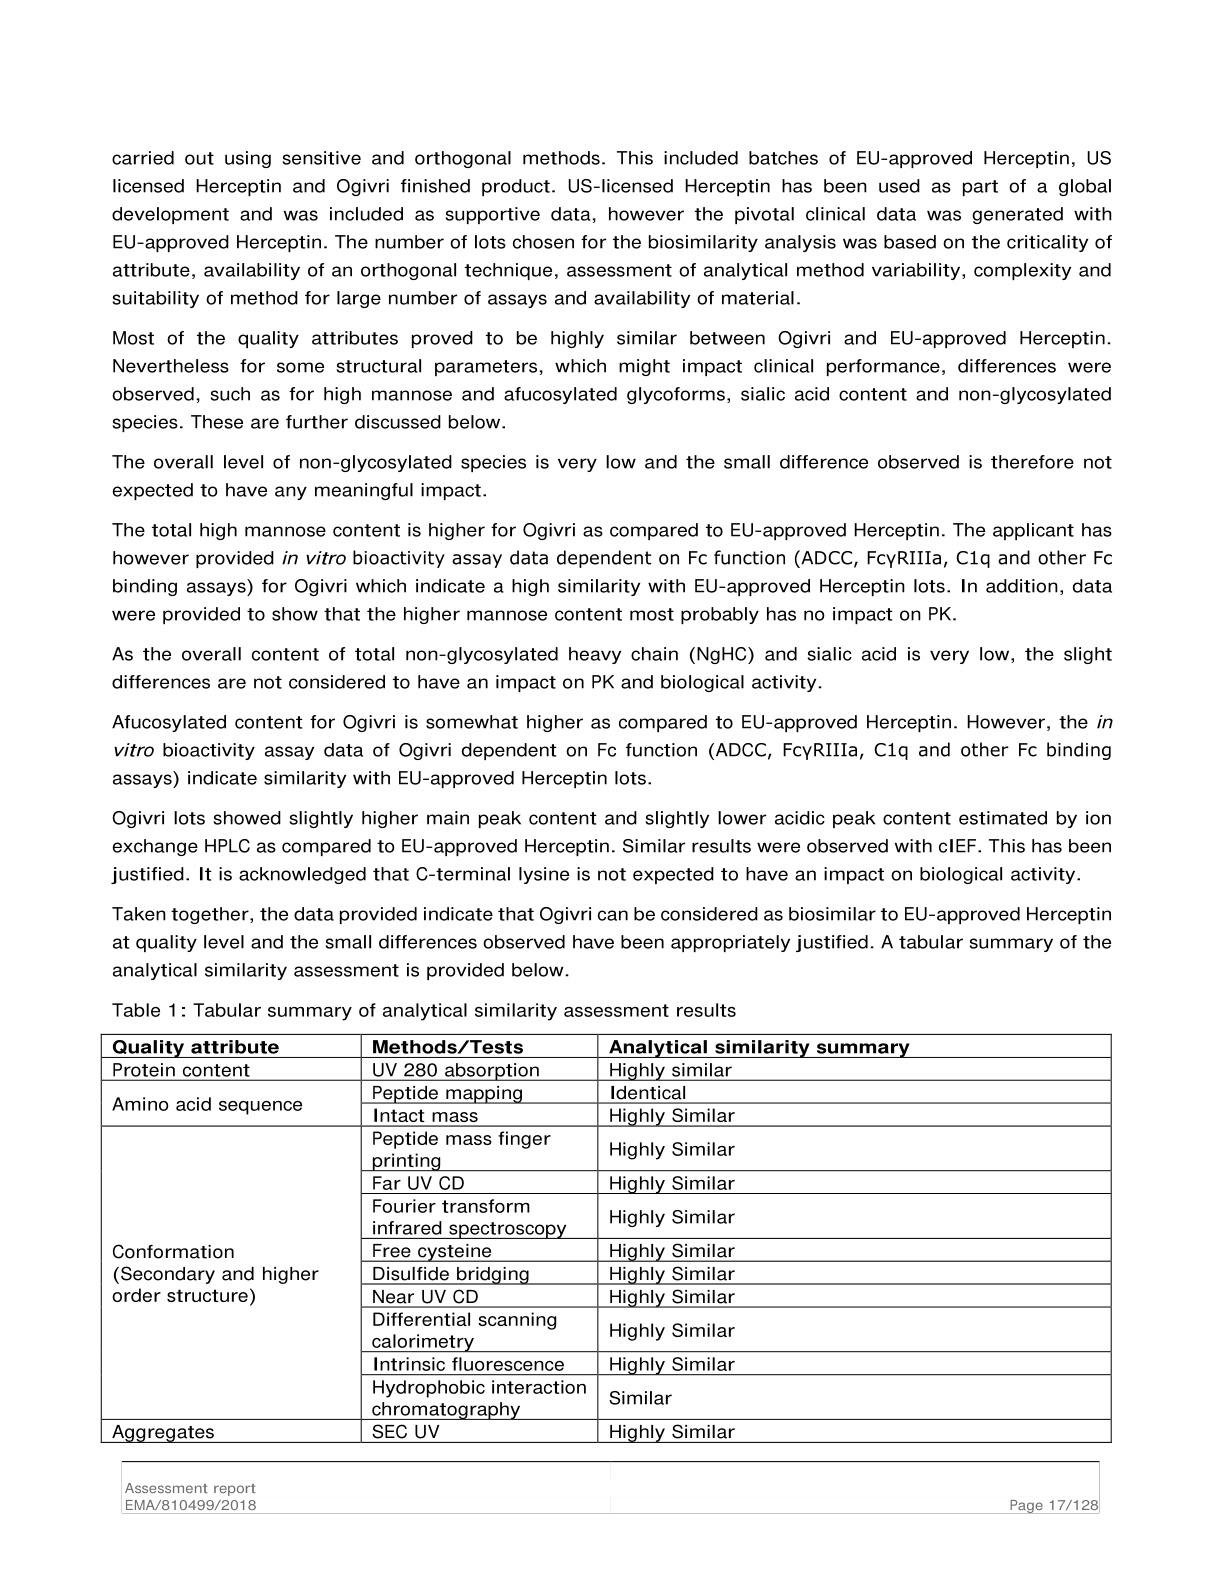merged_cells: (99, 1032, 1112, 1443)
